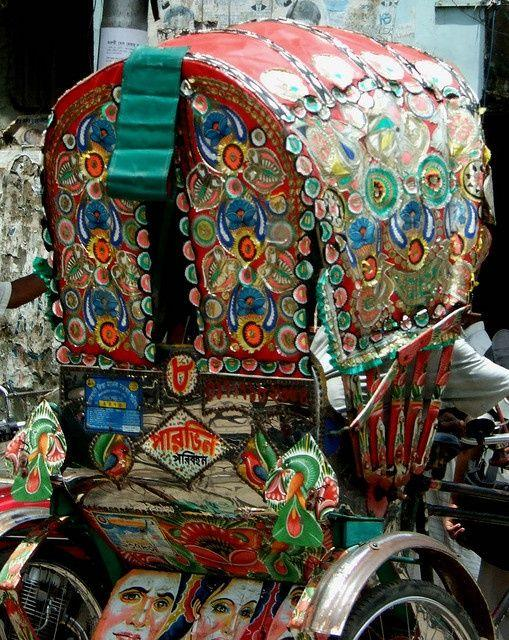Rickshaw: (0, 20, 493, 639)
